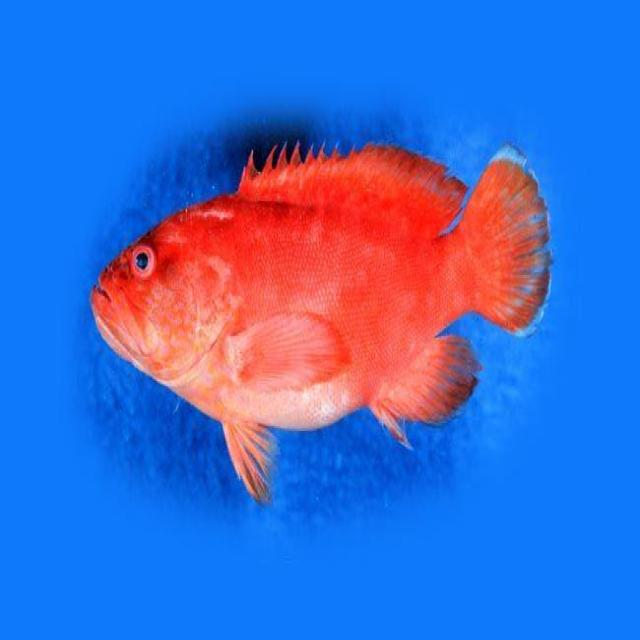ikan: (89, 135, 553, 505)
